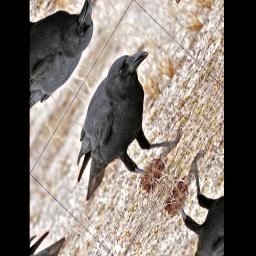Crow: (51, 33, 201, 236)
